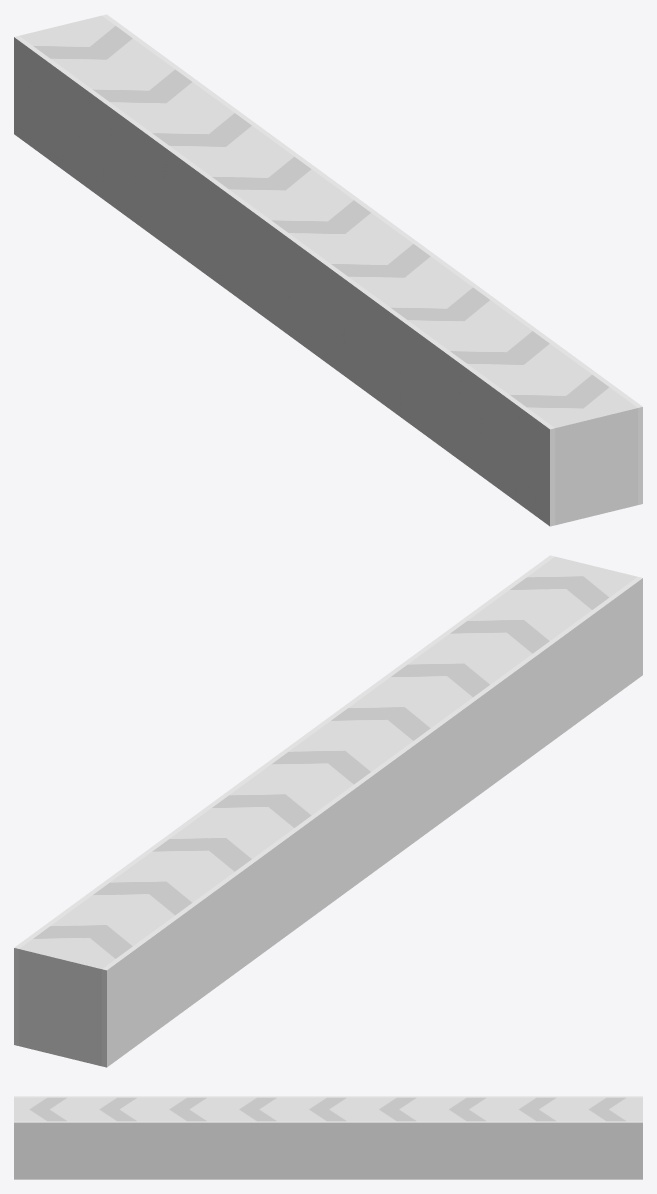
The model's file is Platform.fbx.
3 views of the same model, one above another, from view 1: azimuth 30°, elevation 25°; view 2: azimuth 150°, elevation 25°; view 3: azimuth 270°, elevation 25° (orthographic). The views are drawn at different scales.
Visible parts, largest first — view 1: Platform01; view 2: Platform01; view 3: Platform01.
Boxes of the visible parts, <box> form: Platform01: <box>14,14,642,526</box>; Platform01: <box>14,555,642,1067</box>; Platform01: <box>14,1096,642,1179</box>.
Size of the model in its own units: 1000 by 1000 by 10000.
